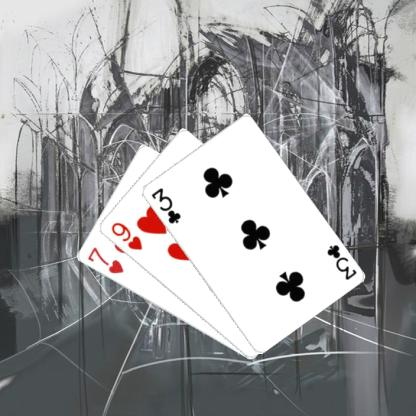3C: (148, 185, 182, 225), (324, 242, 358, 282)
7H: (84, 244, 124, 275)
9H: (108, 219, 143, 252)
